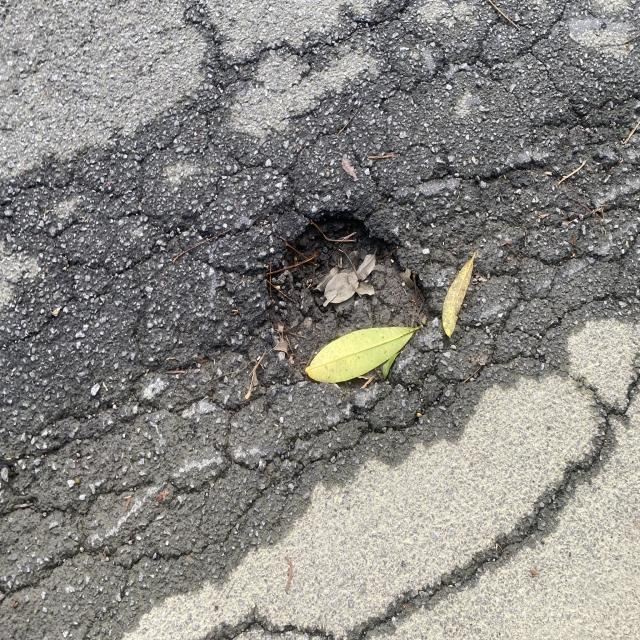Pothole: (246, 192, 434, 415)
